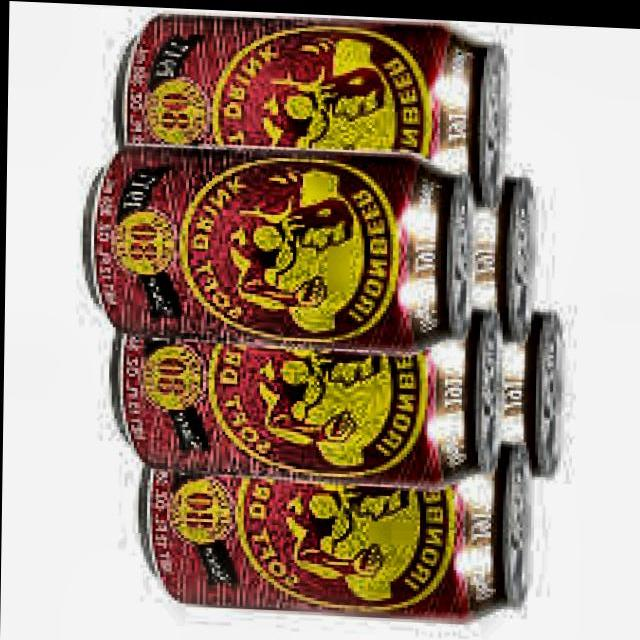litter: (80, 140, 481, 352), (134, 417, 535, 625), (110, 3, 512, 200), (110, 286, 504, 486), (486, 298, 572, 476), (464, 166, 542, 341)
